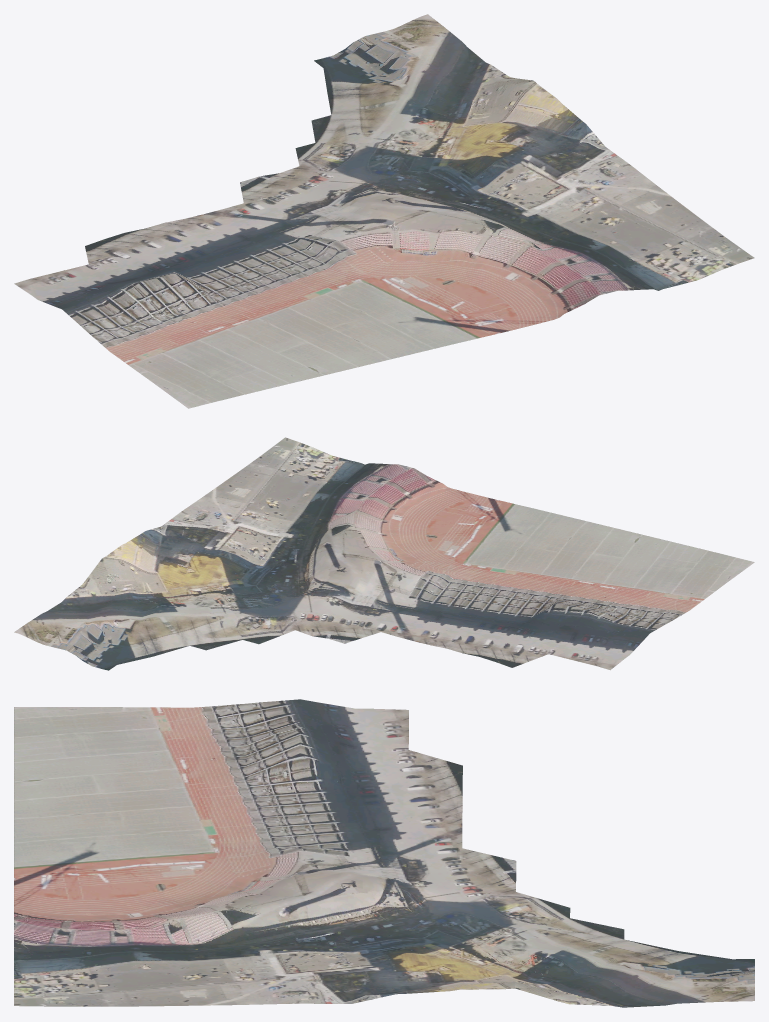
File: CM_Terrain_24487387_6820408.fbx
3 renders of one model, top to bottom at view 1: azimuth 30°, elevation 25°; view 2: azimuth 150°, elevation 25°; view 3: azimuth 270°, elevation 25°, orthographic. The views are drawn at different scales.
Visible parts, largest first — view 1: CM_Terrain_24487387_6820408_LOD0; view 2: CM_Terrain_24487387_6820408_LOD0; view 3: CM_Terrain_24487387_6820408_LOD0.
Part boxes in pixels (bbox=[...]): CM_Terrain_24487387_6820408_LOD0: bbox=[14, 14, 754, 408]; CM_Terrain_24487387_6820408_LOD0: bbox=[14, 437, 754, 670]; CM_Terrain_24487387_6820408_LOD0: bbox=[14, 699, 754, 1007].
Size of what is drawn, in the model's own units: 205 by 11.58 by 205.
